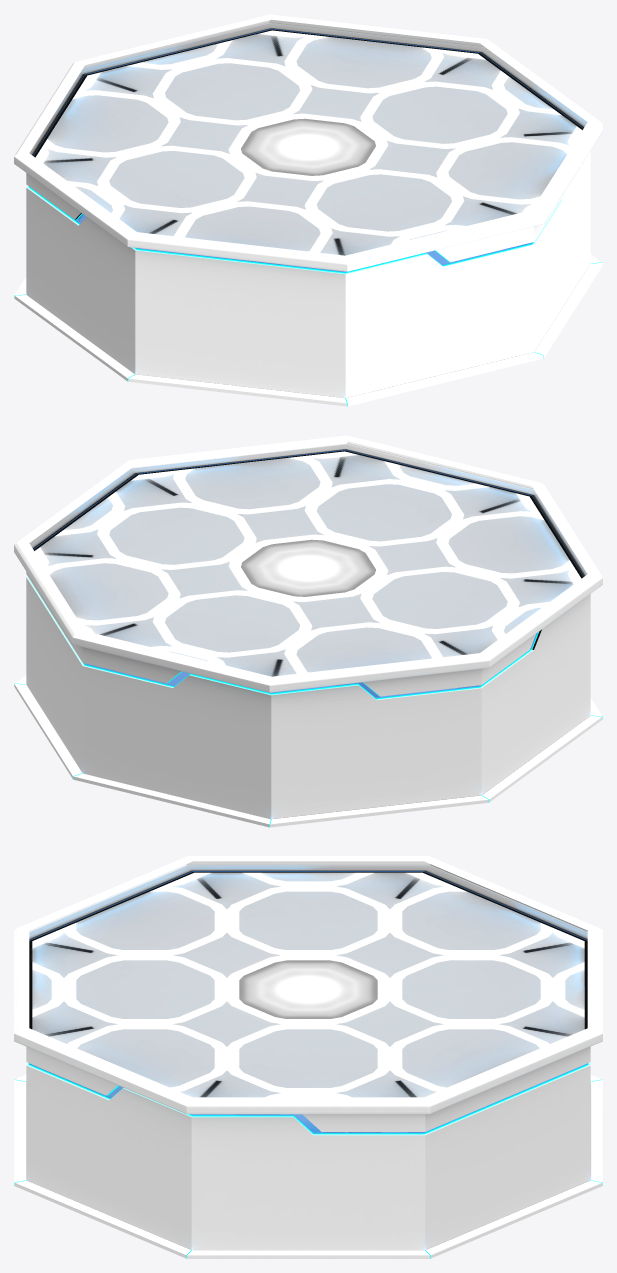
3 renders of one model, top to bottom at view 1: azimuth 30°, elevation 25°; view 2: azimuth 150°, elevation 25°; view 3: azimuth 270°, elevation 25°, orthographic. The views are drawn at different scales.
Parts seen in each view (by area): view 1: flooroof, wall, glass; view 2: flooroof, wall, glass; view 3: flooroof, wall, glass.
Part boxes in pixels (bbox=[...]): flooroof: bbox=[14, 14, 602, 406]; wall: bbox=[26, 28, 590, 397]; glass: bbox=[30, 28, 583, 272]; flooroof: bbox=[14, 435, 602, 827]; wall: bbox=[26, 449, 590, 818]; glass: bbox=[33, 449, 583, 698]; flooroof: bbox=[14, 856, 602, 1258]; wall: bbox=[26, 870, 590, 1250]; glass: bbox=[29, 871, 587, 1133].
Bounding box in the file's own units: 14.78 × 4.29 × 14.78.
7 materials, 5 textured.
